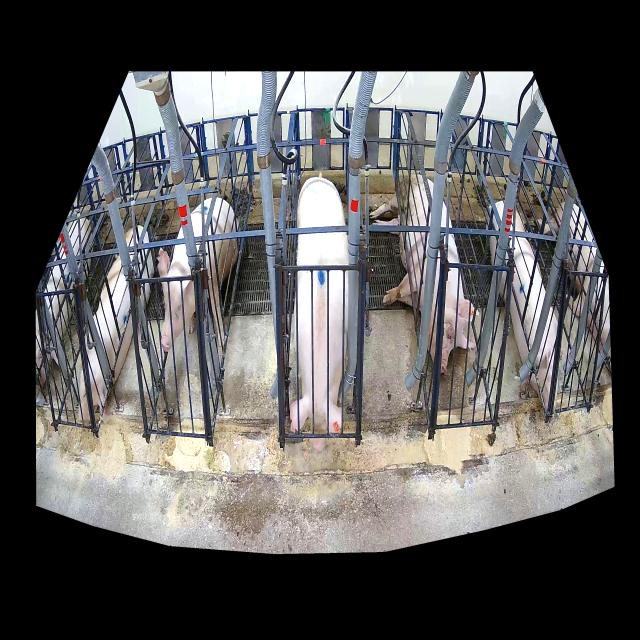pig: (370, 175, 475, 375), (290, 173, 348, 451), (486, 200, 558, 416), (79, 225, 154, 424), (158, 198, 238, 351)
